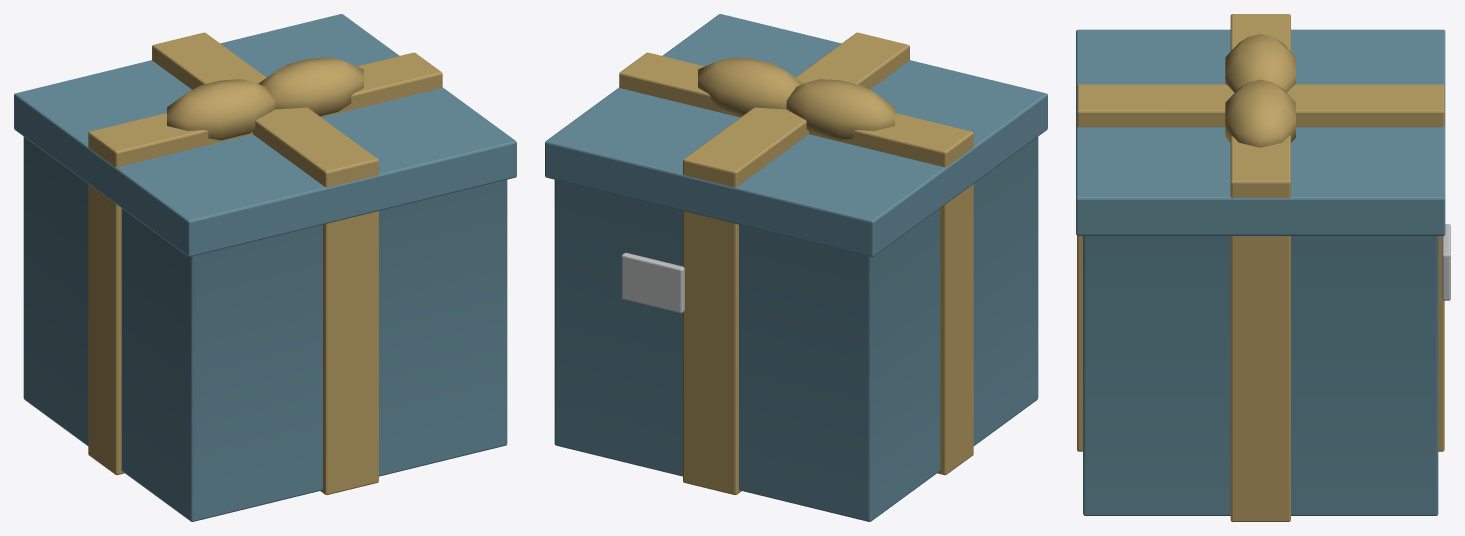
Rendered from gift_box_blue.glb.
3 renders of one model, left to right at view 1: azimuth 30°, elevation 25°; view 2: azimuth 150°, elevation 25°; view 3: azimuth 270°, elevation 25°, orthographic. The views are drawn at different scales.
Size of the model in its own units: 0.5408 by 0.552 by 0.5066.
